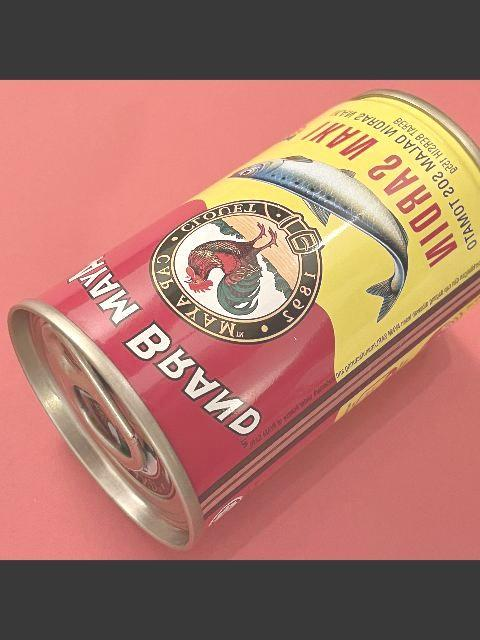foodcan: (2, 89, 480, 554)
